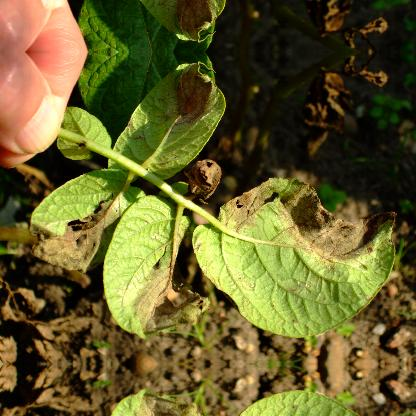Late-Blight: (184, 155, 408, 341), (21, 169, 176, 337), (142, 53, 234, 145), (142, 0, 234, 51)
